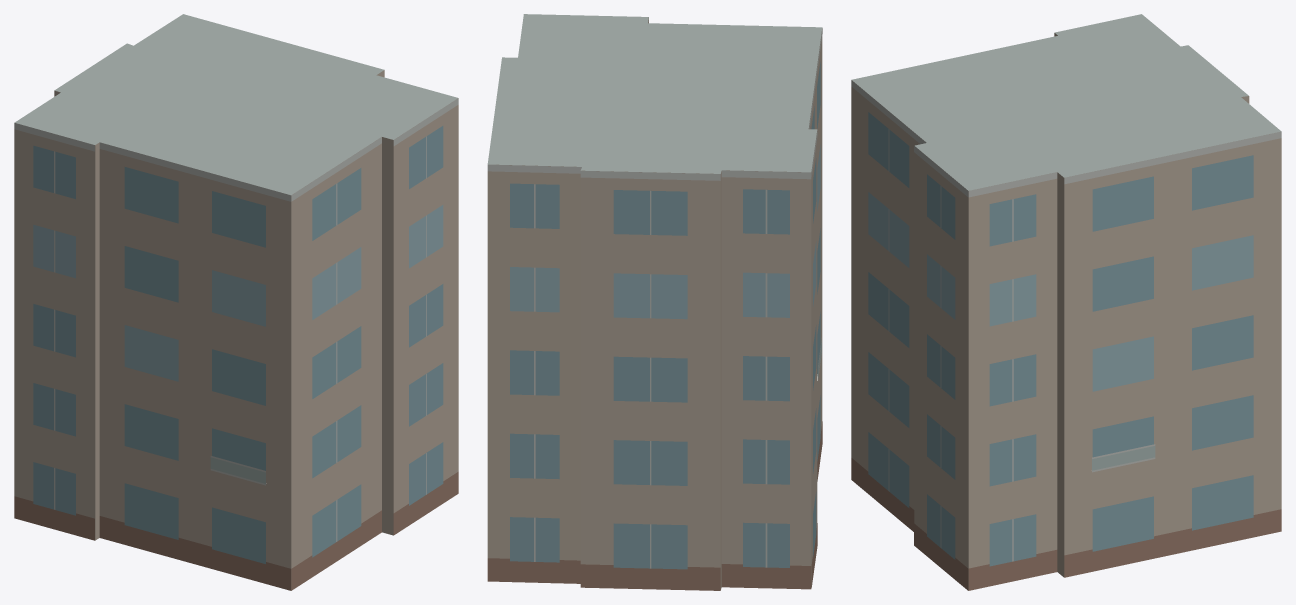
File: survey-upis-32659100.glb
The picture shows the model from 3 angles, left to right: view 1: azimuth 30°, elevation 25°; view 2: azimuth 150°, elevation 25°; view 3: azimuth 270°, elevation 25°; orthographic projection. The views are drawn at different scales.
Visible parts, largest first — view 1: survey-upis-32659100.tmp; view 2: survey-upis-32659100.tmp; view 3: survey-upis-32659100.tmp.
Part boxes in pixels (left/top/right/bottom): survey-upis-32659100.tmp: left=14, top=14, right=458, bottom=590; survey-upis-32659100.tmp: left=487, top=14, right=822, bottom=590; survey-upis-32659100.tmp: left=851, top=14, right=1281, bottom=590.
Bounding box in the file's own units: 14 × 14.75 × 14.39.
